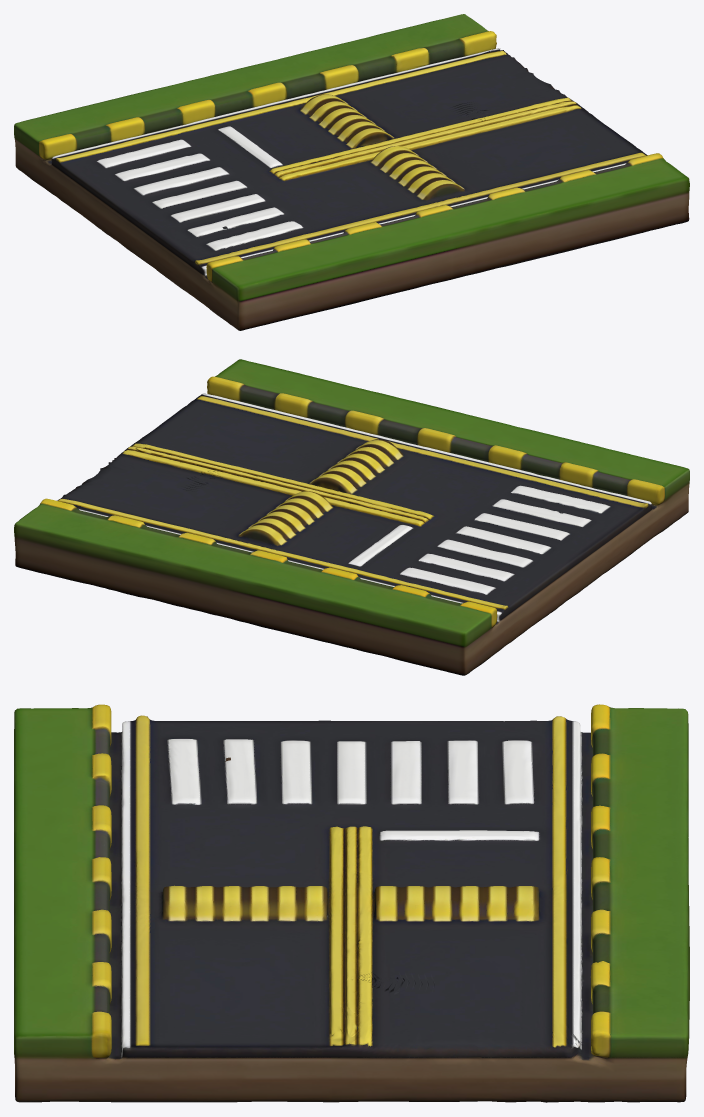
File: 3d_road_segment.fbx
3 renders of one model, top to bottom at view 1: azimuth 30°, elevation 25°; view 2: azimuth 150°, elevation 25°; view 3: azimuth 270°, elevation 25°, orthographic. The views are drawn at different scales.
Visible parts, largest first — view 1: tripo_node_cb2a8e24; view 2: tripo_node_cb2a8e24; view 3: tripo_node_cb2a8e24.
Part boxes in pixels (x1=…): tripo_node_cb2a8e24: x1=14, y1=14, x2=689, y2=330; tripo_node_cb2a8e24: x1=14, y1=359, x2=689, y2=675; tripo_node_cb2a8e24: x1=14, y1=704, x2=689, y2=1102.
Bounding box in the file's own units: 0.9772 × 0.0984 × 0.847.
